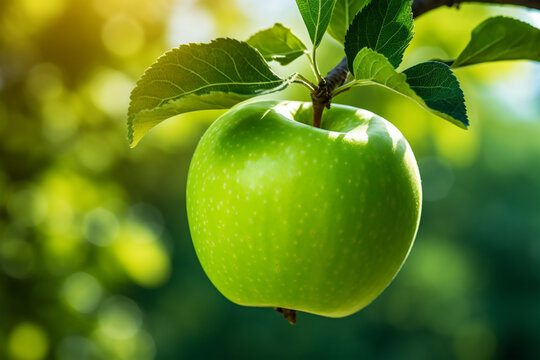apple/: (190, 68, 440, 331)
